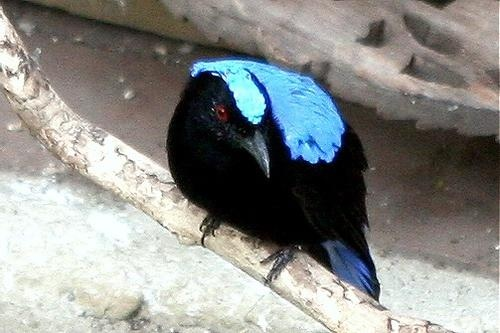bird: (166, 58, 382, 307)
